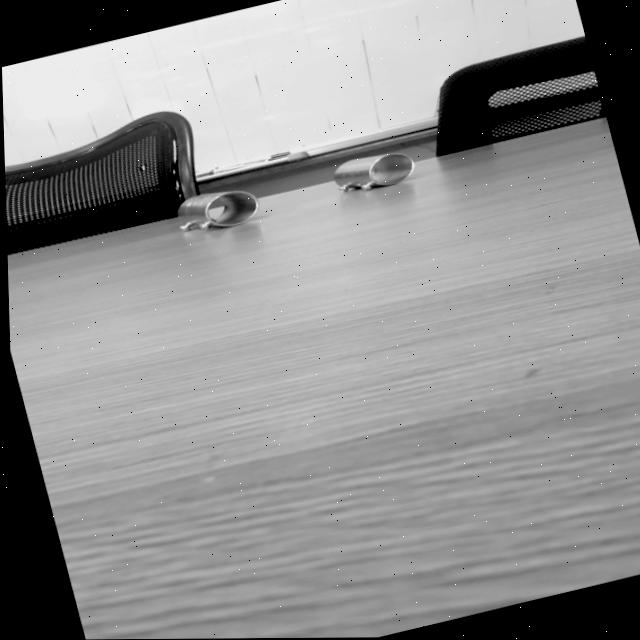Co_Lon: (174, 188, 259, 231)
Co_Nho: (330, 148, 416, 195)
